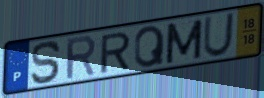M: (164, 17, 205, 66)
Q: (133, 24, 166, 70)
R: (65, 33, 98, 82), (98, 30, 132, 75)
S: (30, 39, 63, 86)
U: (201, 11, 237, 59)
